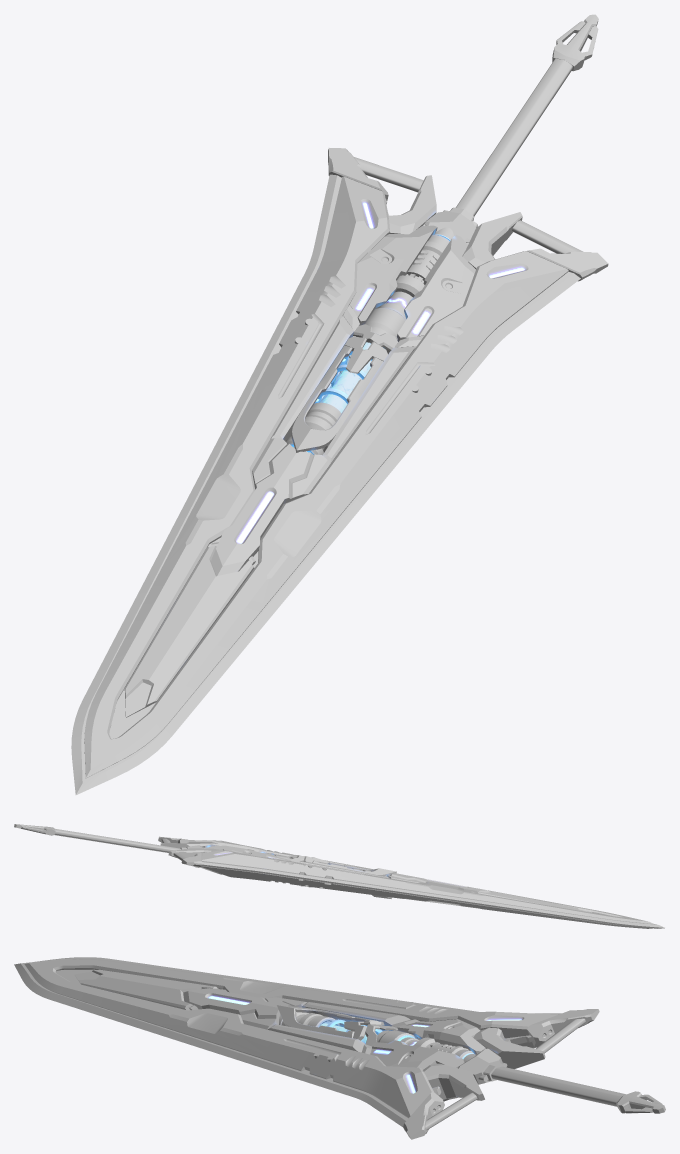
3 renders of one model, top to bottom at view 1: azimuth 30°, elevation 25°; view 2: azimuth 150°, elevation 25°; view 3: azimuth 270°, elevation 25°, orthographic. The views are drawn at different scales.
Parts seen in each view (by area): view 1: SFGS_low002; view 2: SFGS_low002; view 3: SFGS_low002.
Boxes of the visible parts, x1,y1,x2,y2 form: SFGS_low002: (71,14,608,794); SFGS_low002: (14,824,664,928); SFGS_low002: (14,957,665,1139).
Size of the model in its own units: 1.52 by 0.4341 by 1.14.
